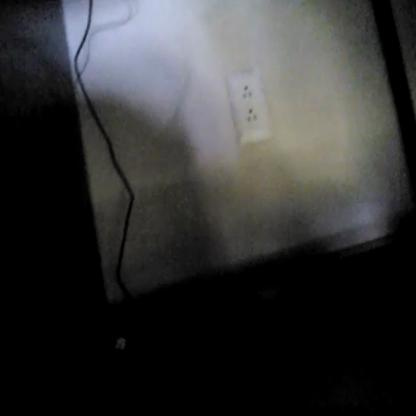OUTLET: (228, 69, 268, 145)
